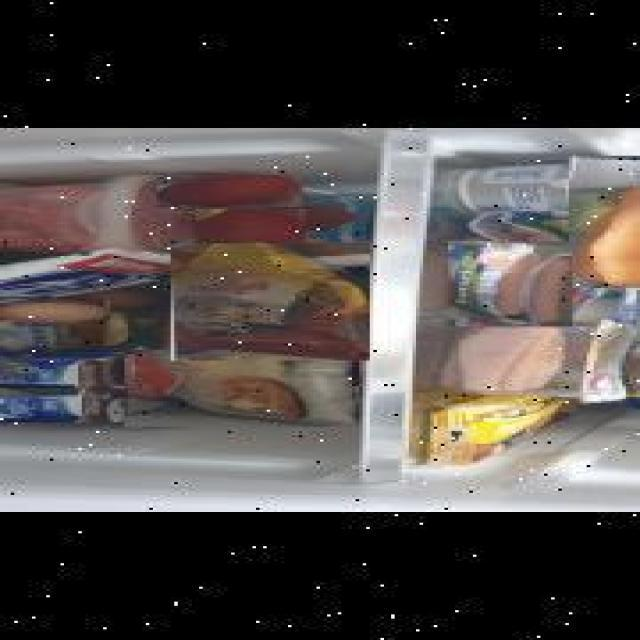carrot: (565, 156, 640, 288)
cheese: (457, 158, 620, 218)
egg: (0, 300, 107, 322), (64, 288, 156, 310)
grated_cheese: (119, 350, 354, 427)
sausage: (444, 241, 569, 326)
tomato: (153, 175, 299, 207), (192, 209, 302, 243)
tortillas: (167, 243, 366, 361)
yogurt: (0, 388, 124, 422)
